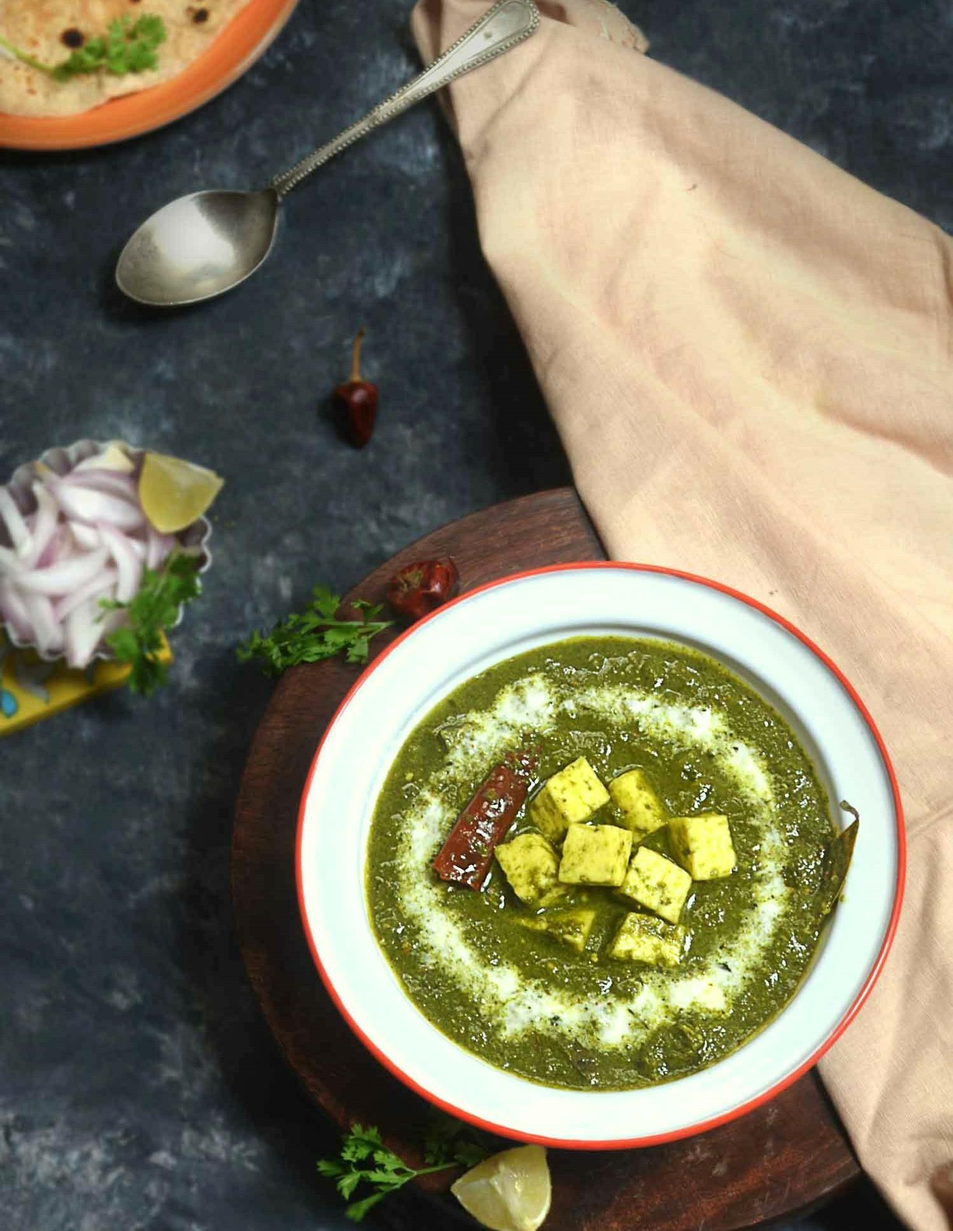PalakPaneer: (355, 637, 863, 1080)
